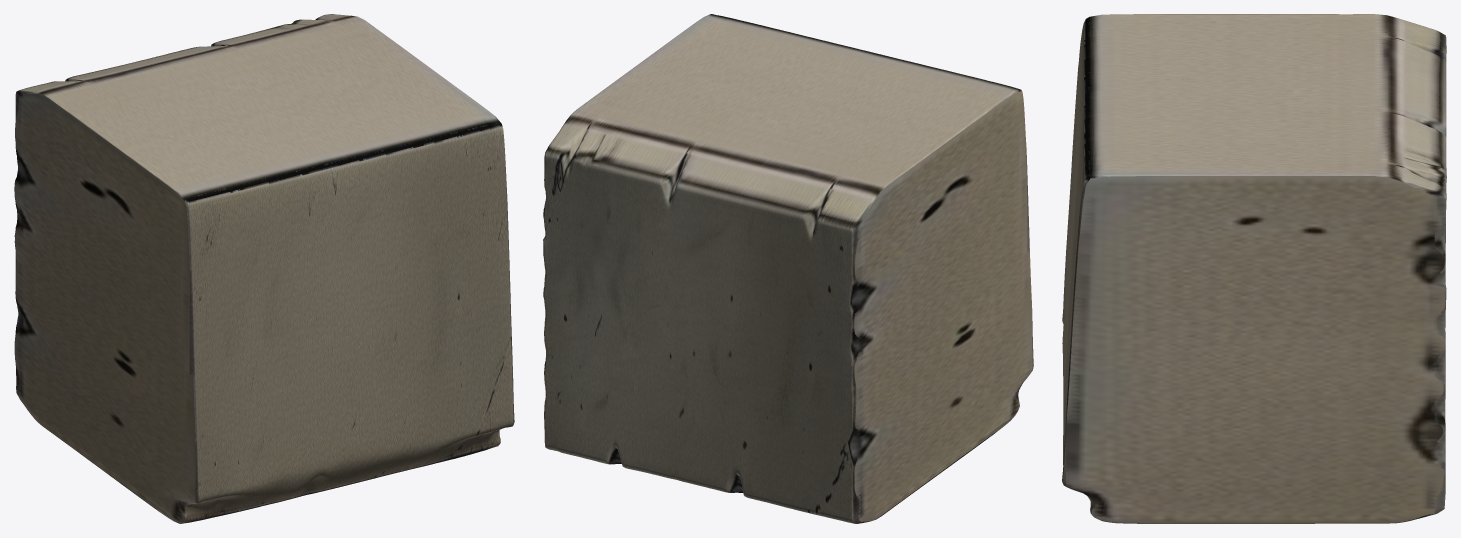
The model's file is facade-cornice.glb.
The picture shows the model from 3 angles, left to right: view 1: azimuth 30°, elevation 25°; view 2: azimuth 150°, elevation 25°; view 3: azimuth 270°, elevation 25°; orthographic projection. The views are drawn at different scales.
Visible parts, largest first — view 1: tmpc0r4p5qz.ply; view 2: tmpc0r4p5qz.ply; view 3: tmpc0r4p5qz.ply.
Part boxes in pixels (x1,y1,x2,y2): tmpc0r4p5qz.ply: (14,14,514,523); tmpc0r4p5qz.ply: (543,14,1033,523); tmpc0r4p5qz.ply: (1062,14,1446,523).
Bounding box in the file's own units: 1 × 1 × 1.
1 material, 1 textured.
